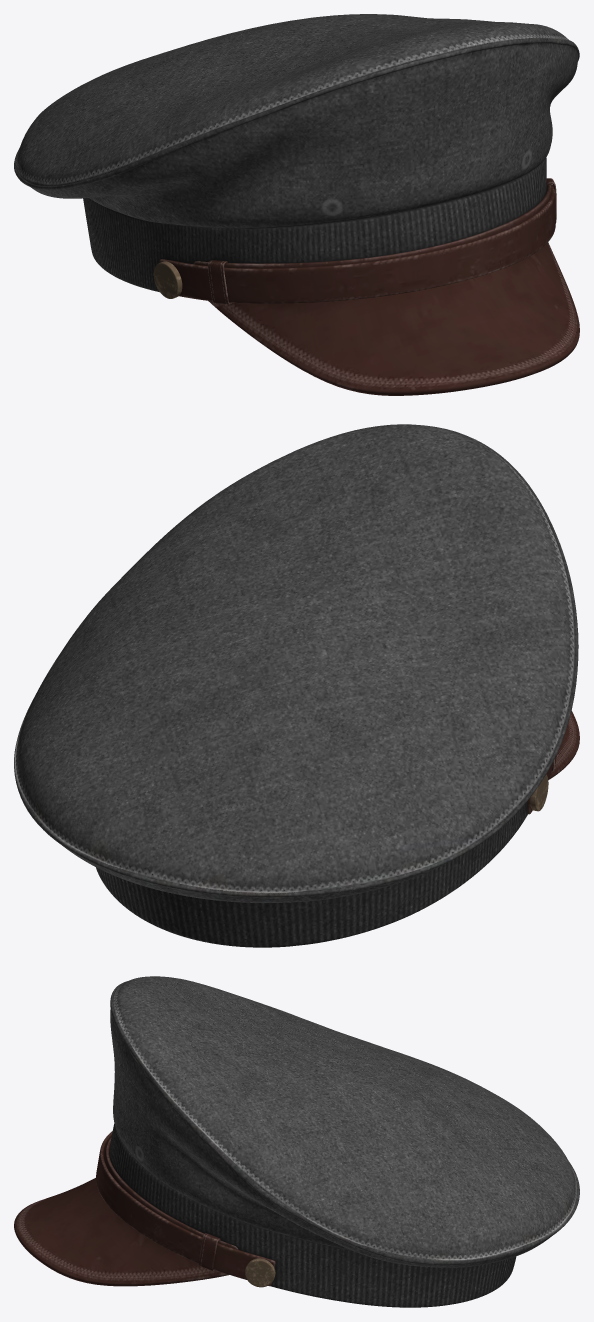
File: military_cap.glb
3 renders of one model, top to bottom at view 1: azimuth 30°, elevation 25°; view 2: azimuth 150°, elevation 25°; view 3: azimuth 270°, elevation 25°, orthographic. The views are drawn at different scales.
Visible parts, largest first — view 1: Object_6, Object_2, Object_5, Object_3, Object_7; view 2: Object_6, Object_2; view 3: Object_6, Object_2, Object_5, Object_7, Object_3.
Boxes of the visible parts, box(x1,y1,x2,y2) form: Object_6: box(14, 14, 579, 292); Object_2: box(208, 242, 579, 395); Object_5: box(159, 184, 555, 303); Object_3: box(208, 178, 556, 304); Object_7: box(153, 261, 182, 298); Object_6: box(14, 424, 578, 947); Object_2: box(548, 711, 579, 779); Object_6: box(109, 976, 579, 1307); Object_2: box(14, 1178, 228, 1286); Object_5: box(96, 1131, 275, 1286); Object_7: box(245, 1258, 275, 1287); Object_3: box(198, 1233, 220, 1270).
Bounding box in the file's own units: 139 × 90.5 × 175.
Materials: 1 (1 with a texture image).
